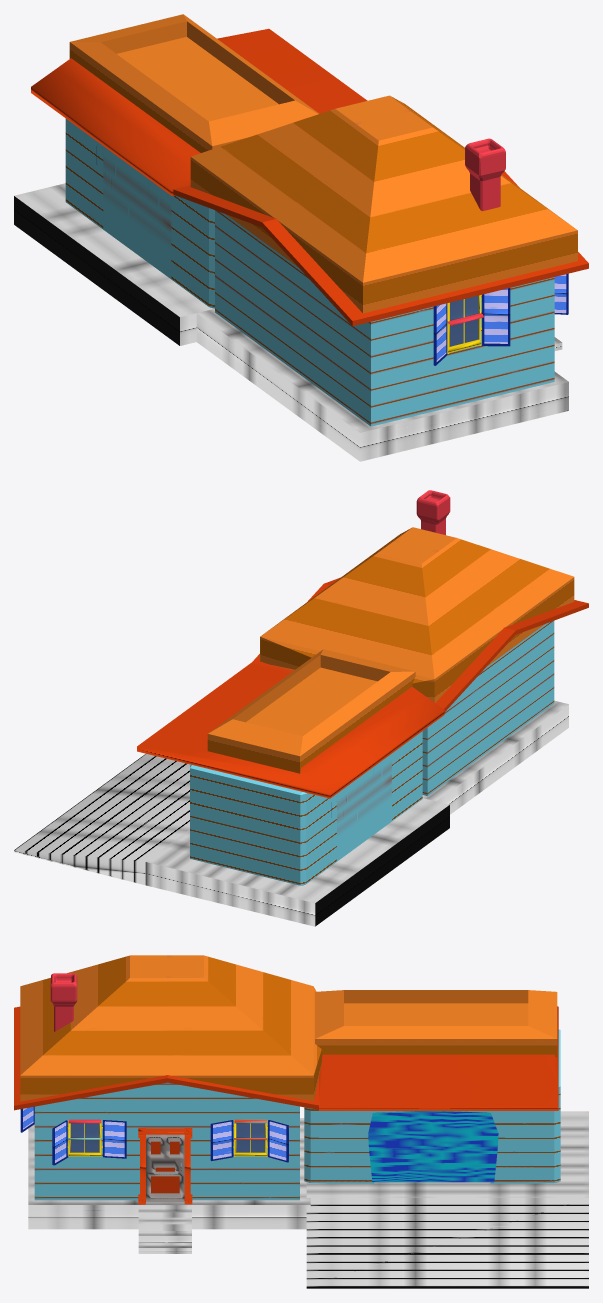
File: last.fbx
The picture shows the model from 3 angles, top to bottom: view 1: azimuth 30°, elevation 25°; view 2: azimuth 150°, elevation 25°; view 3: azimuth 270°, elevation 25°; orthographic projection. The views are drawn at different scales.
Visible parts, largest first — view 1: Cube.082; view 2: Cube.082; view 3: Cube.082.
Boxes of the visible parts, box(x1,y1,x2,y2) form: Cube.082: box(14, 14, 588, 461); Cube.082: box(14, 490, 588, 926); Cube.082: box(14, 955, 588, 1288).
Size of the model in its own units: 3633 by 2477 by 5719.
Materials: 12 (11 with a texture image).
